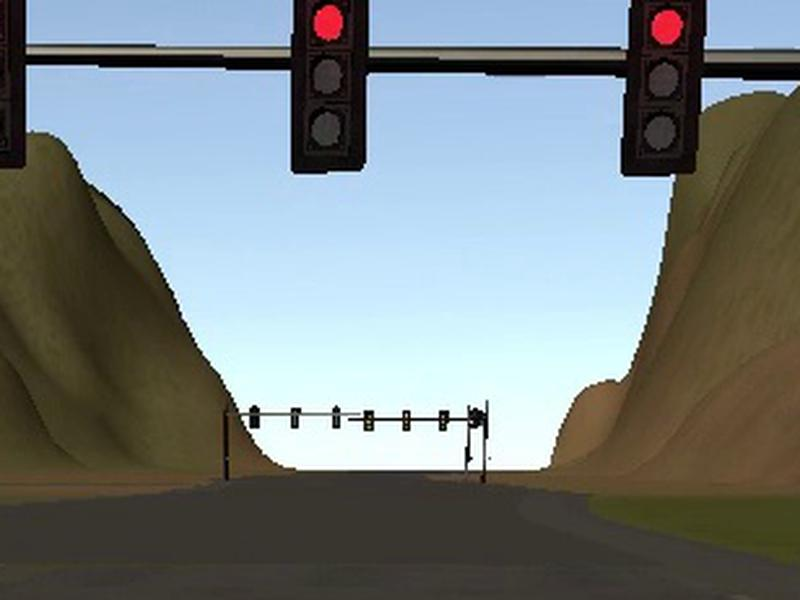Red: (620, 1, 709, 177), (290, 1, 370, 173)
